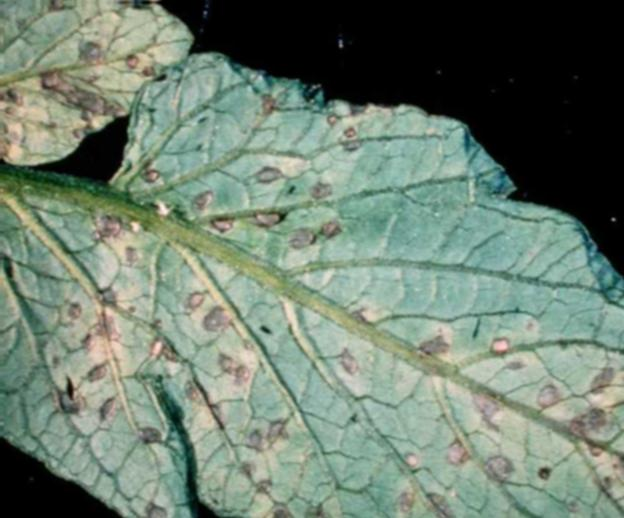Tomato Septoria leaf spot: (0, 17, 624, 518), (0, 0, 195, 164)
